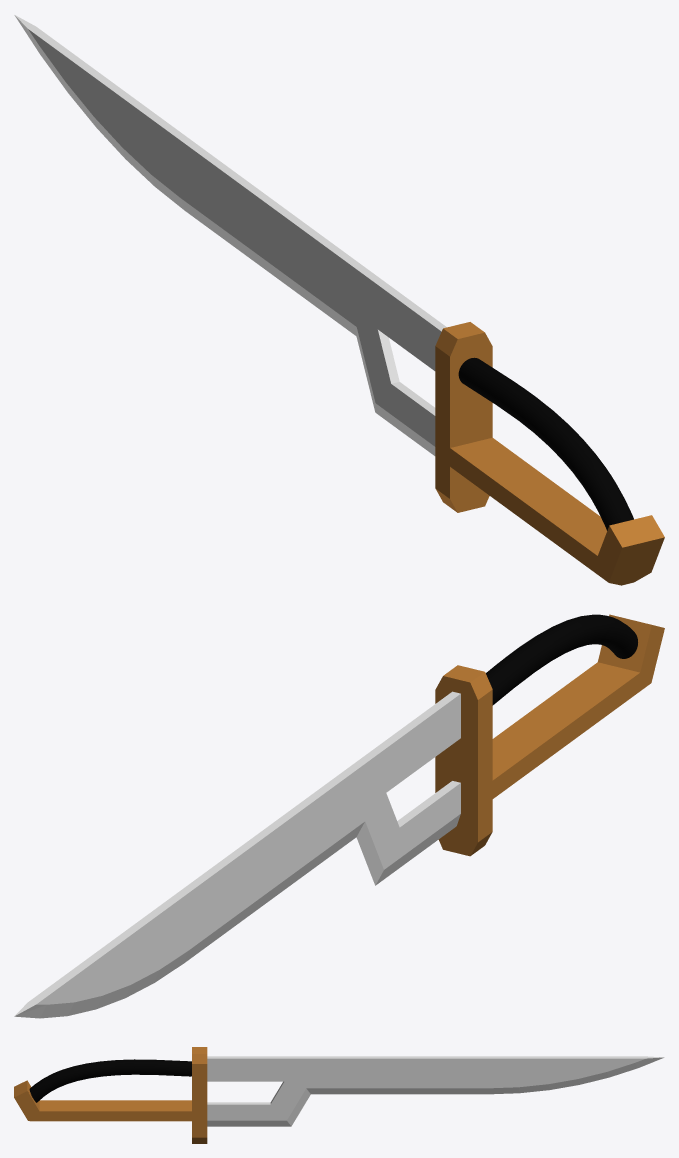
The model's file is plasmasword.fbx.
The picture shows the model from 3 angles, top to bottom: view 1: azimuth 30°, elevation 25°; view 2: azimuth 150°, elevation 25°; view 3: azimuth 270°, elevation 25°; orthographic projection. The views are drawn at different scales.
Visible parts, largest first — view 1: plasmasword; view 2: plasmasword; view 3: plasmasword.
Boxes of the visible parts, left/top/right/bottom form: plasmasword: left=14, top=15, right=664, bottom=585; plasmasword: left=14, top=614, right=664, bottom=1018; plasmasword: left=14, top=1047, right=664, bottom=1143.
Size of the model in its own units: 5 by 19.5 by 128.
